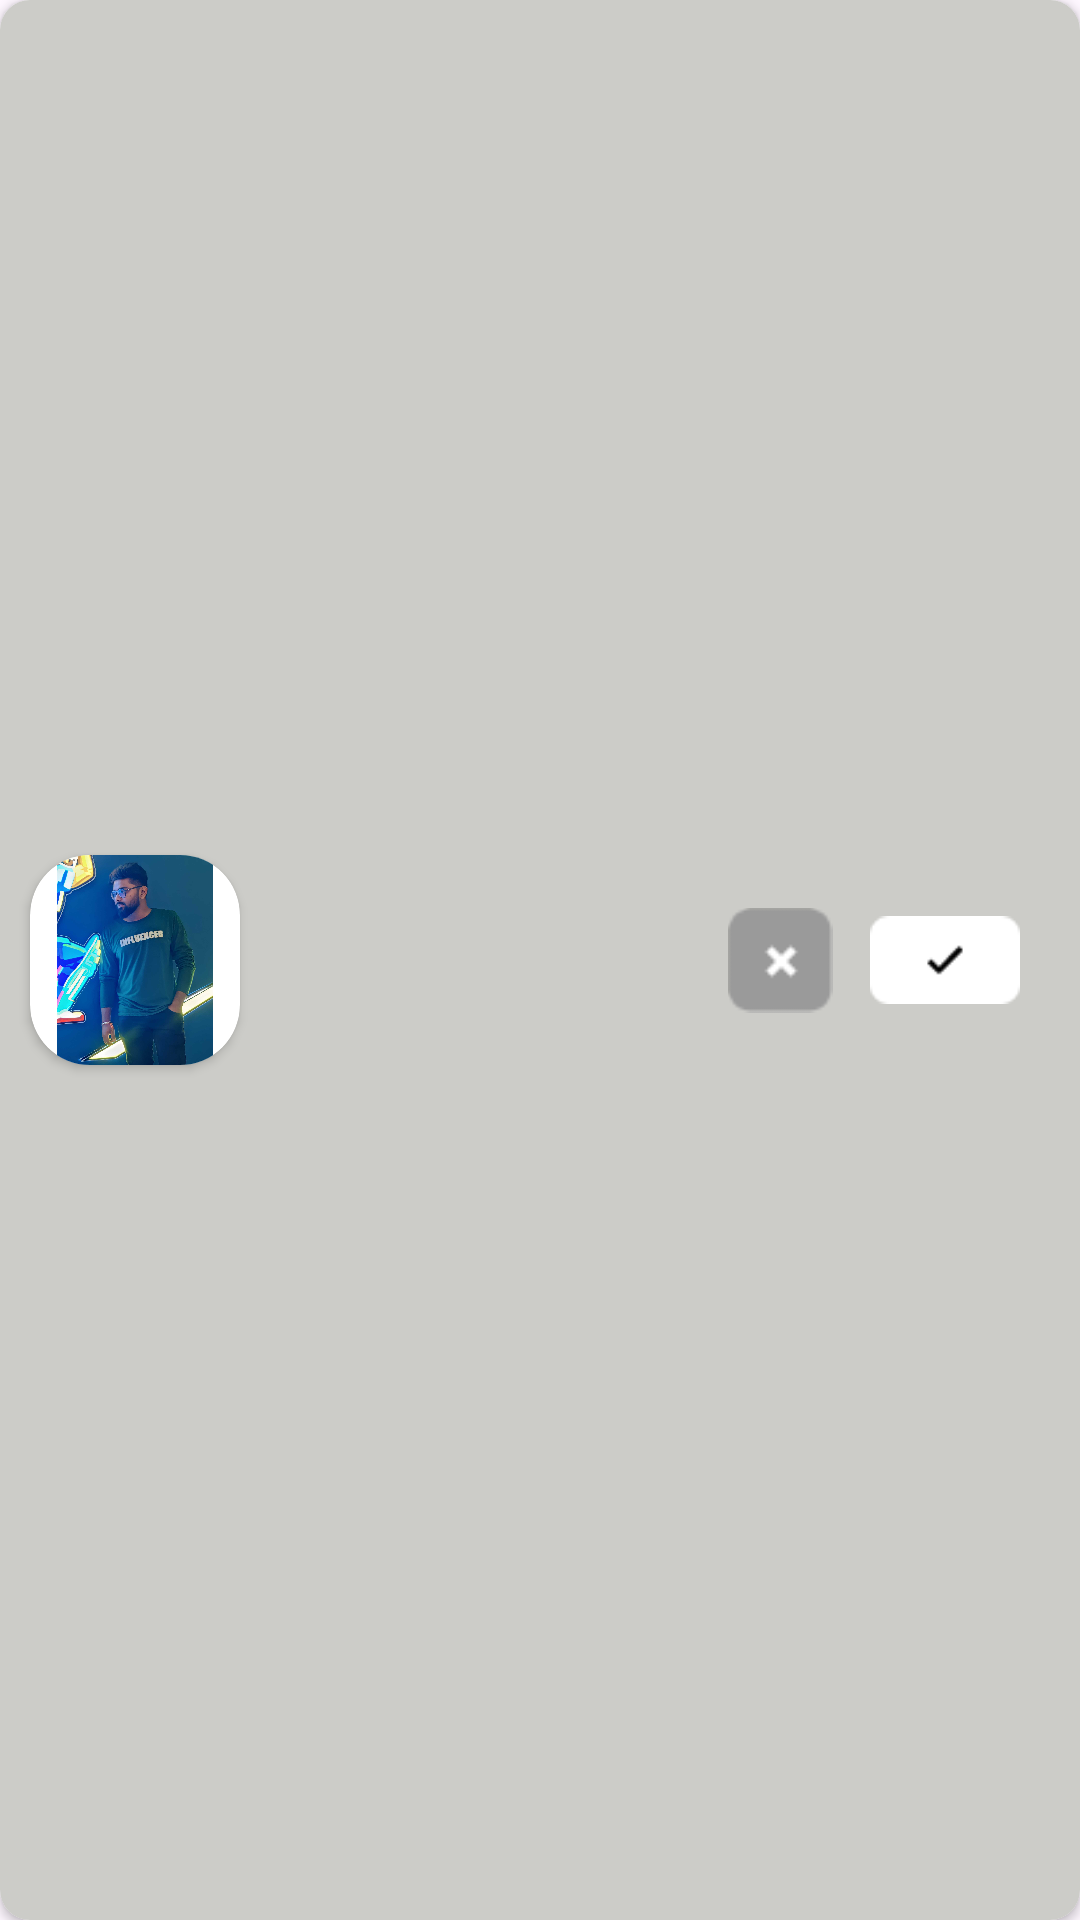

Where icons sit on this 1080×1920 app screen, as BBox(x1, y1, x2, y2):
accept: BBox(870, 916, 1020, 1004)
profile: BBox(30, 855, 240, 1065)
